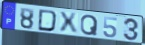3: (123, 18, 140, 42)
5: (102, 16, 118, 39)
8: (19, 7, 35, 30)
D: (37, 9, 59, 33)
Q: (80, 14, 99, 37)
X: (58, 11, 79, 35)
